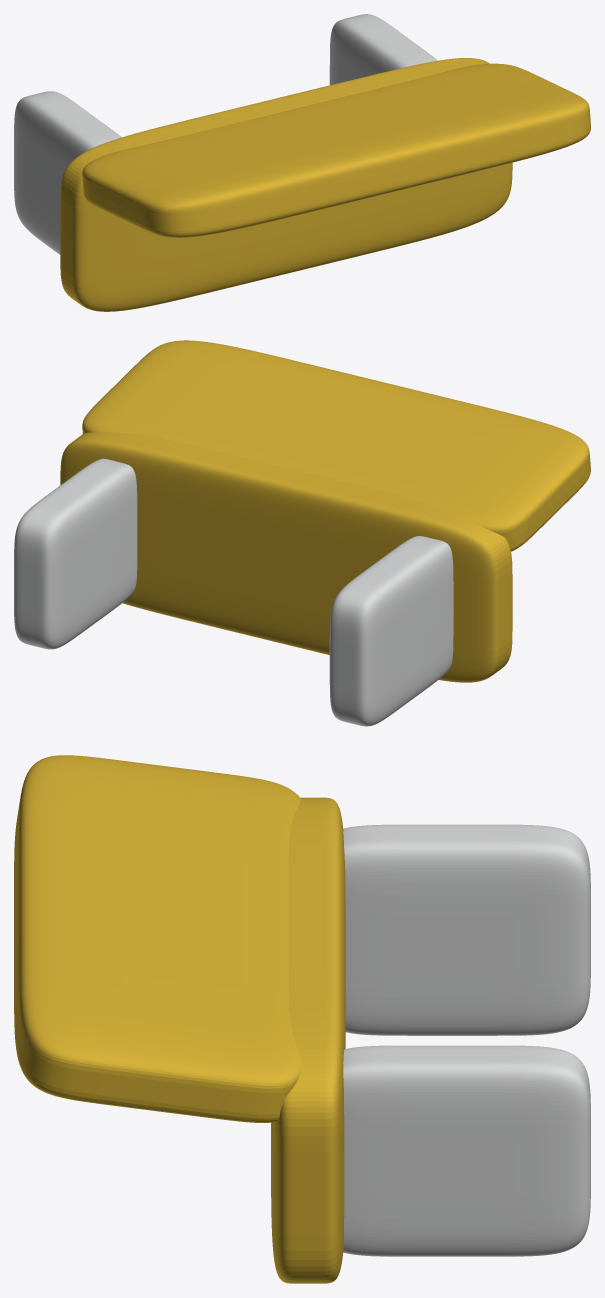
File: wooden_park_bench_sq.glb
3 views of the same model, one above another, from view 1: azimuth 30°, elevation 25°; view 2: azimuth 150°, elevation 25°; view 3: azimuth 270°, elevation 25° (orthographic). The views are drawn at different scales.
Parts seen in each view (by area): view 1: superquadric_1, superquadric_0, superquadric_2, superquadric_3; view 2: superquadric_0, superquadric_1, superquadric_2, superquadric_3; view 3: superquadric_1, superquadric_3, superquadric_2, superquadric_0.
Part boxes in pixels (<box>): superquadric_1: <box>82,63,590,237</box>; superquadric_0: <box>60,58,512,311</box>; superquadric_2: <box>14,91,121,254</box>; superquadric_3: <box>329,14,437,85</box>; superquadric_0: <box>60,432,512,682</box>; superquadric_1: <box>82,340,590,551</box>; superquadric_2: <box>329,536,453,726</box>; superquadric_3: <box>14,458,137,649</box>; superquadric_1: <box>14,755,301,1122</box>; superquadric_3: <box>343,1045,590,1256</box>; superquadric_2: <box>343,824,590,1035</box>; superquadric_0: <box>271,797,345,1283</box>.
Bounding box in the file's own units: 1 × 0.3995 × 0.7954.
